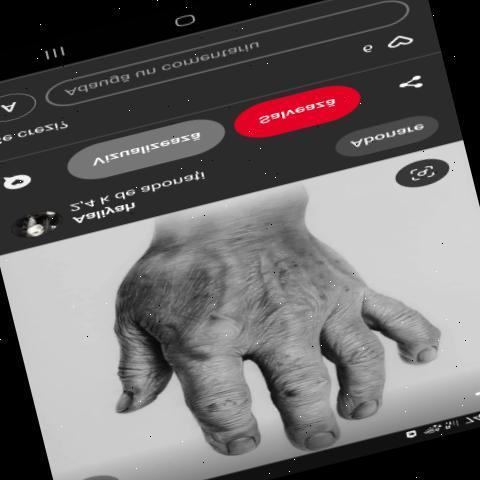Hands: (89, 187, 469, 480)
